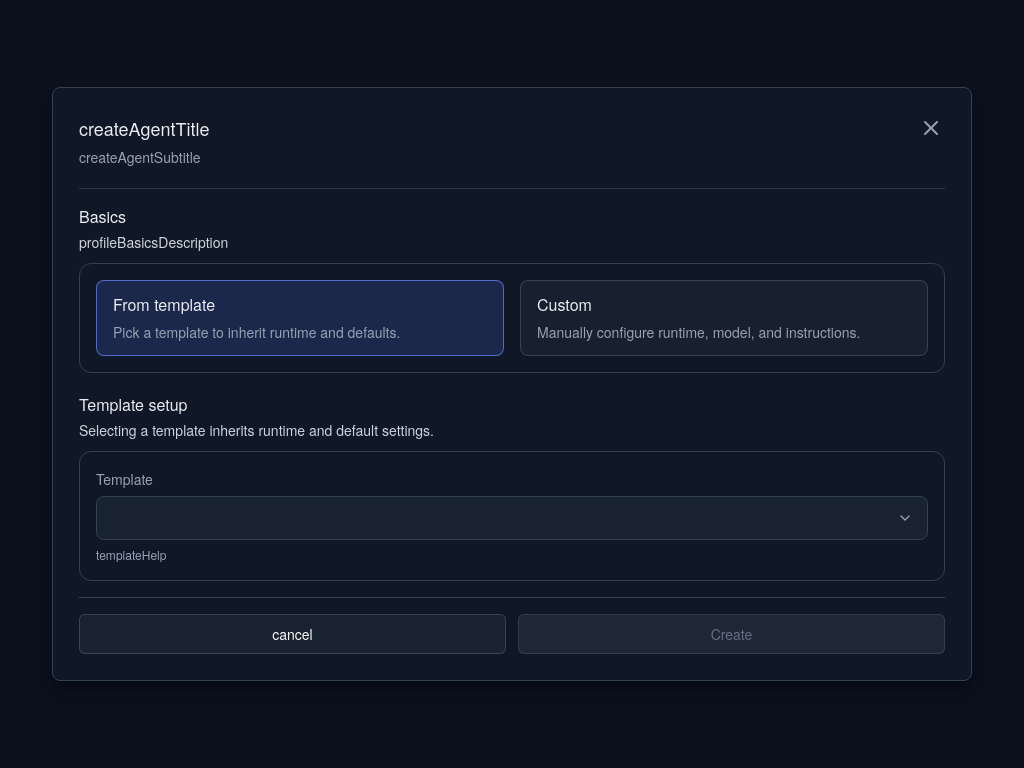
AgentProfileModal › hides manager templates from the worker template dropdown in create mode
This screenshot has width=1024, height=768.
Click the dropdown named "Template" at (905, 518), box [96,496,928,540]
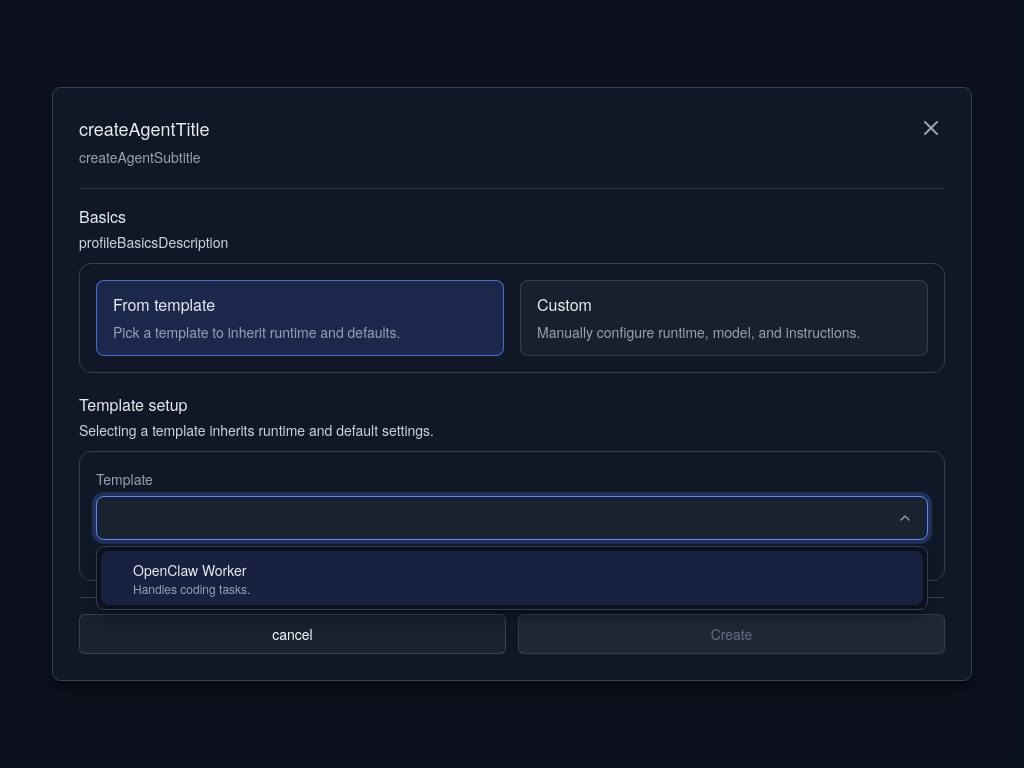
Expected: the option "OpenClaw Worker Handles coding tasks." is shown, [101,551,923,605]
Expected: the text "Handles coding tasks." is shown, [133,580,250,597]
